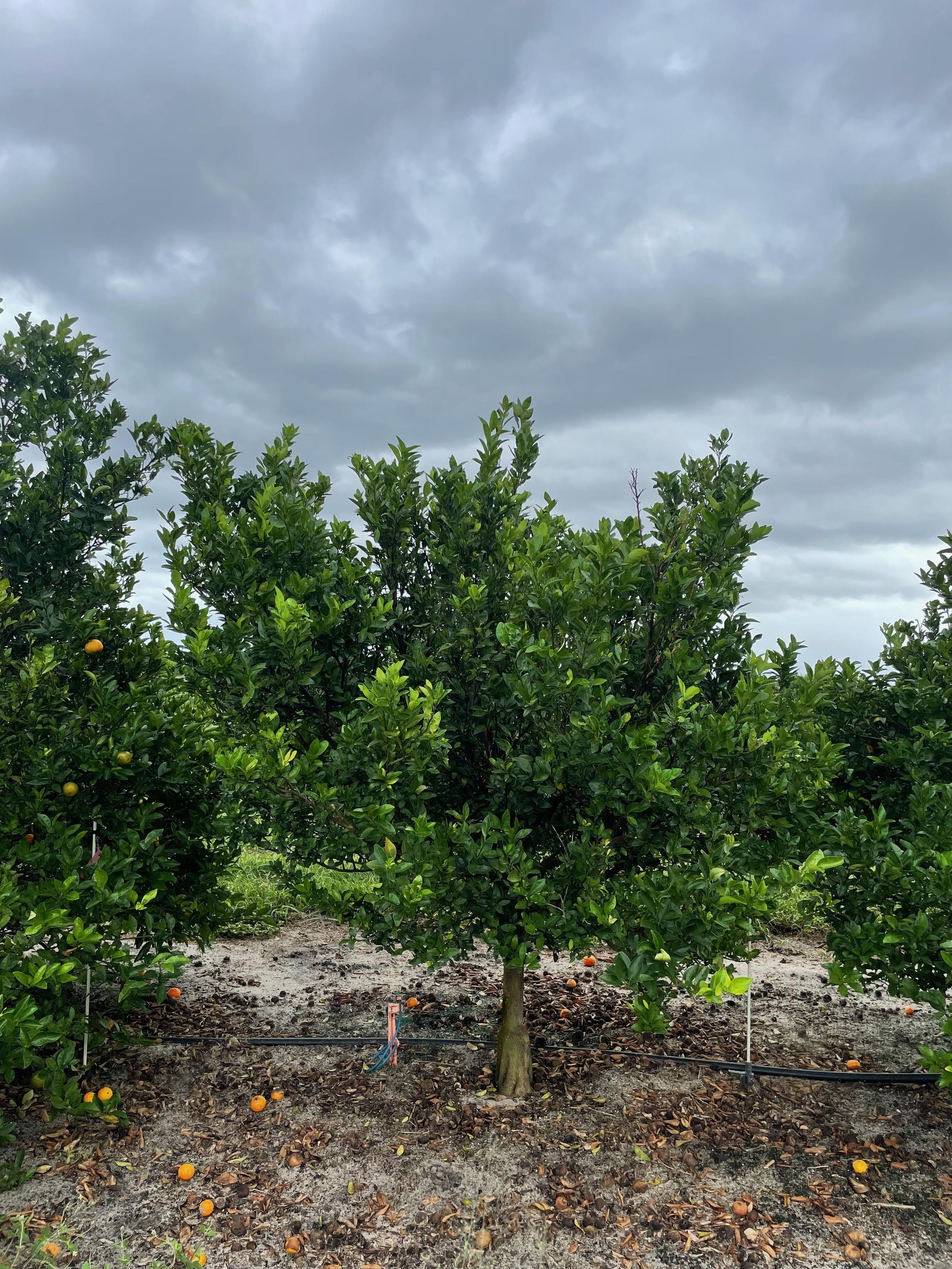fruit_on_ground: (82, 636, 105, 657), (28, 1071, 50, 1091), (114, 747, 135, 767), (61, 780, 80, 798), (581, 953, 598, 968), (22, 830, 37, 846)
fruit_on_tree: (730, 1197, 752, 1218), (283, 1233, 303, 1255), (177, 1161, 197, 1181), (96, 1083, 116, 1102), (249, 1093, 268, 1112), (851, 1157, 870, 1175), (198, 1198, 216, 1217), (164, 984, 184, 1001), (78, 1087, 96, 1105), (286, 1151, 304, 1168), (268, 1087, 285, 1103), (844, 1057, 863, 1071), (404, 994, 420, 1008), (557, 1005, 572, 1019), (564, 976, 578, 989), (903, 1005, 916, 1017)
